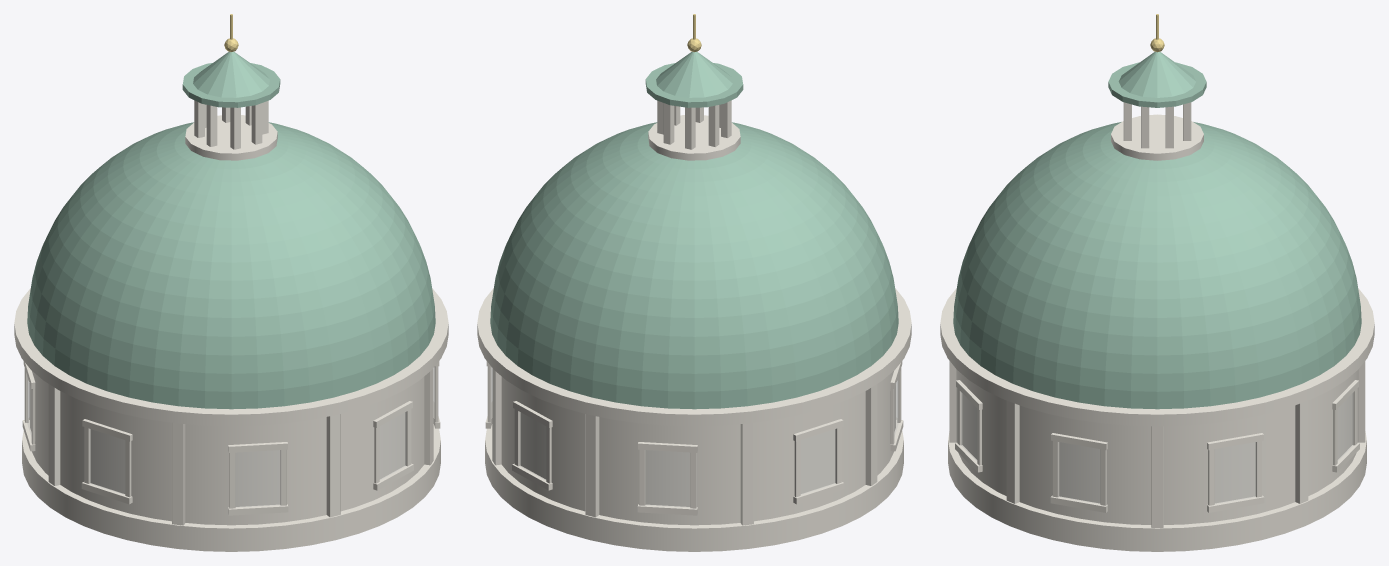
Rendered from dome.glb.
The picture shows the model from 3 angles, left to right: view 1: azimuth 30°, elevation 25°; view 2: azimuth 150°, elevation 25°; view 3: azimuth 270°, elevation 25°; orthographic projection.
Visible parts, largest first — view 1: dome_copper, dome_cornice, dome_glass; view 2: dome_copper, dome_cornice, dome_glass; view 3: dome_copper, dome_cornice, dome_glass.
Part boxes in pixels (x1,y1,x2,y2): dome_copper: [27, 51, 435, 409]; dome_cornice: [14, 100, 448, 551]; dome_glass: [27, 378, 405, 506]; dome_copper: [490, 51, 898, 409]; dome_cornice: [477, 100, 911, 551]; dome_glass: [520, 378, 898, 506]; dome_copper: [953, 51, 1361, 409]; dome_cornice: [940, 102, 1374, 551]; dome_glass: [961, 393, 1353, 503].
Bounding box in the file's own units: 8.4 × 9.63 × 8.4.
